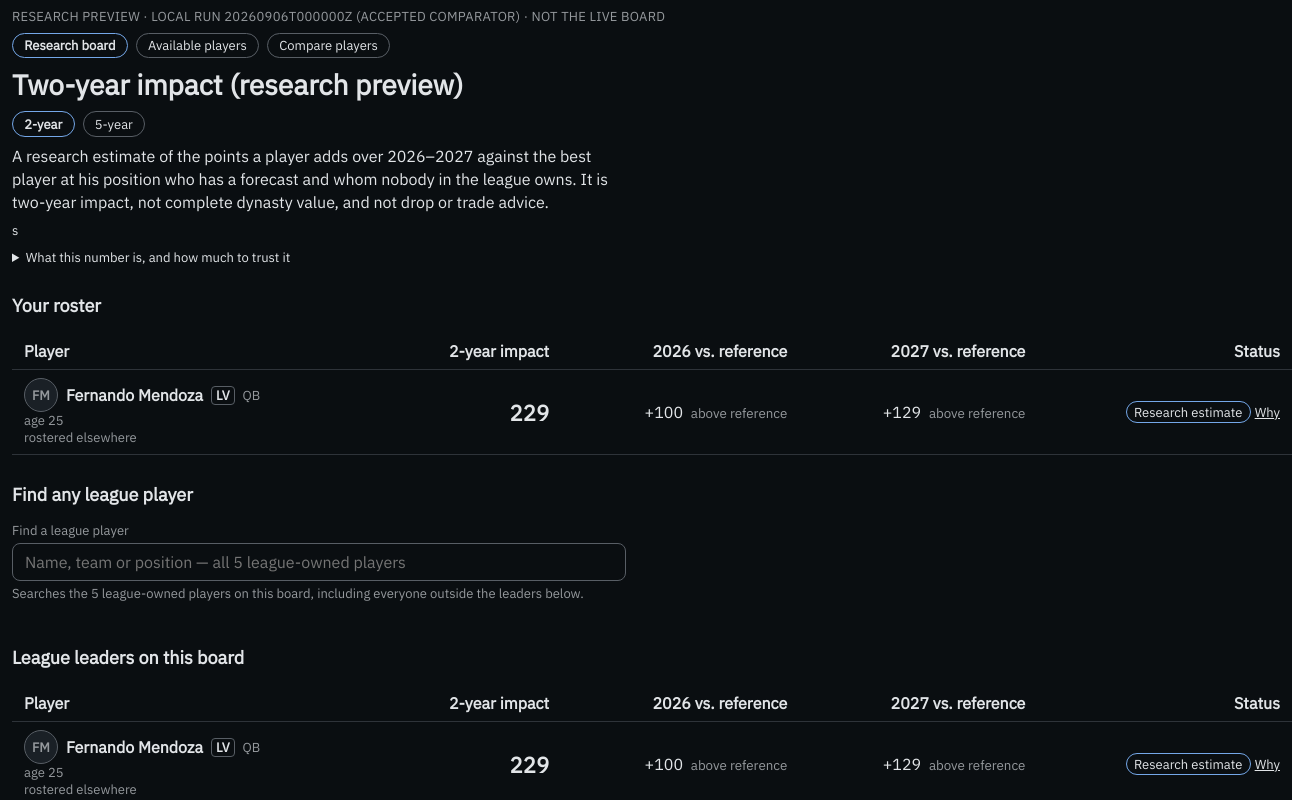
Test: ResearchPreview search across horizons › keeps an active query and its matches when the horizon toggles
Type "braelon" into the search field labelled "Find a league player" at (319,562), box [12, 543, 626, 581]
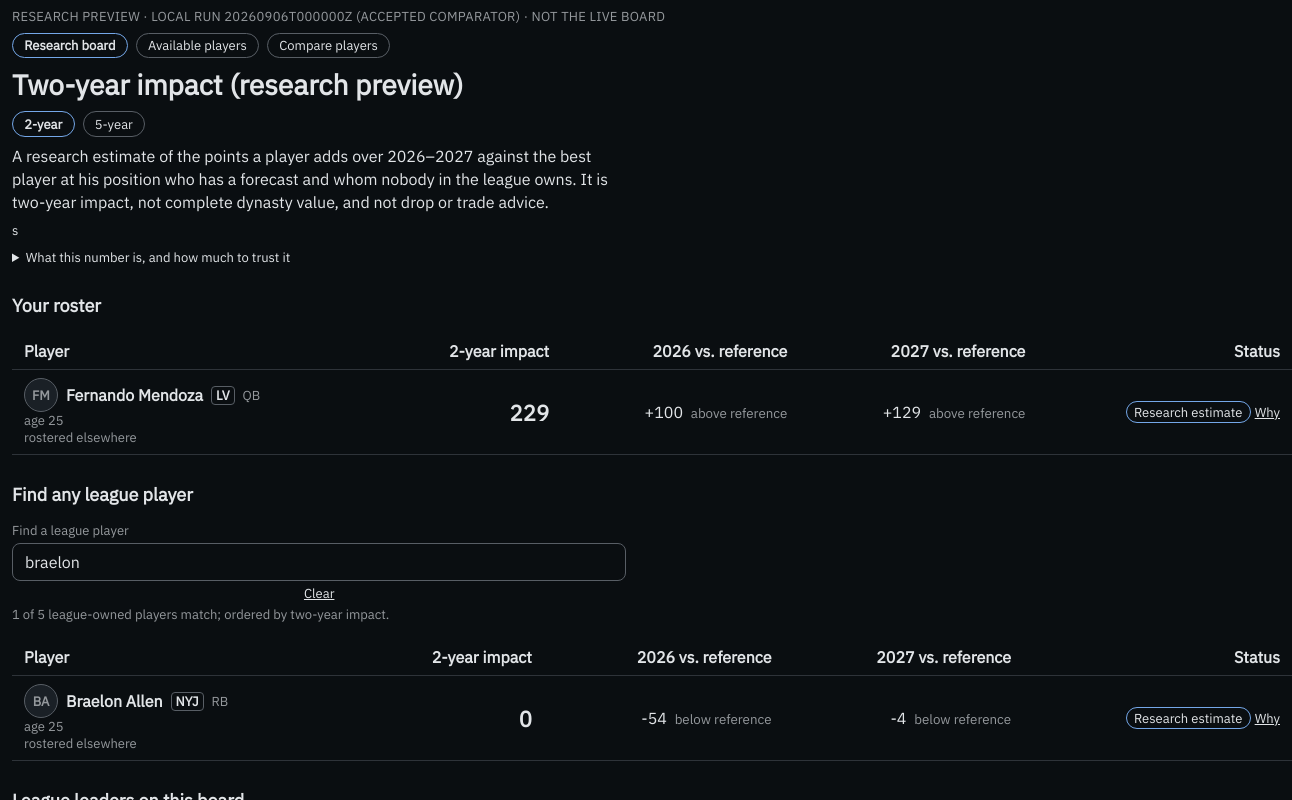
Result: the element named "League players matching your search" is shown at [12, 639, 1291, 761]
Click the tab "5-year" at (114,124), box [82, 111, 145, 137]
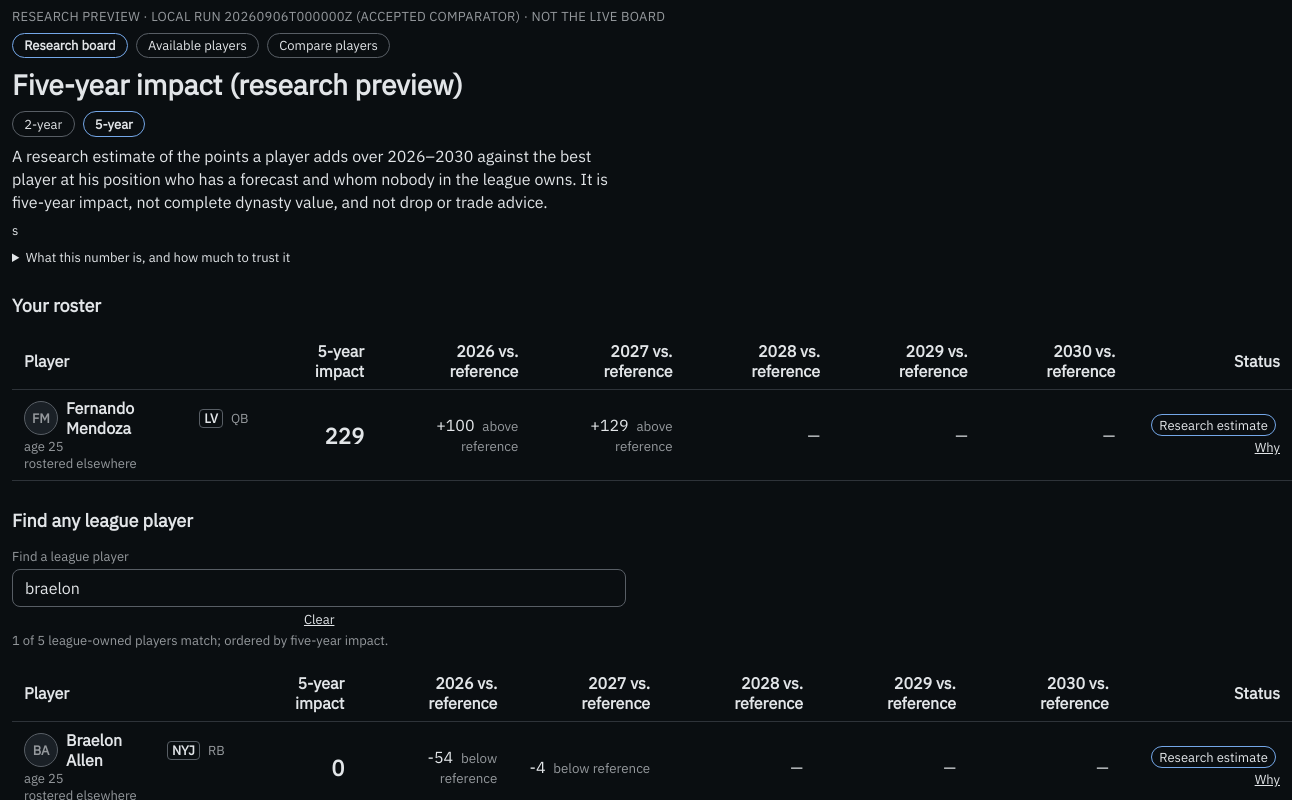
Result: the text "Braelon Allen" is shown at [66, 730, 122, 770]
Result: the heading "Five-year impact (research preview)" is shown at [12, 66, 463, 103]
Result: the text "1 of 5 league-owned players match; ordered by five-year impact." is shown at [12, 632, 388, 649]
